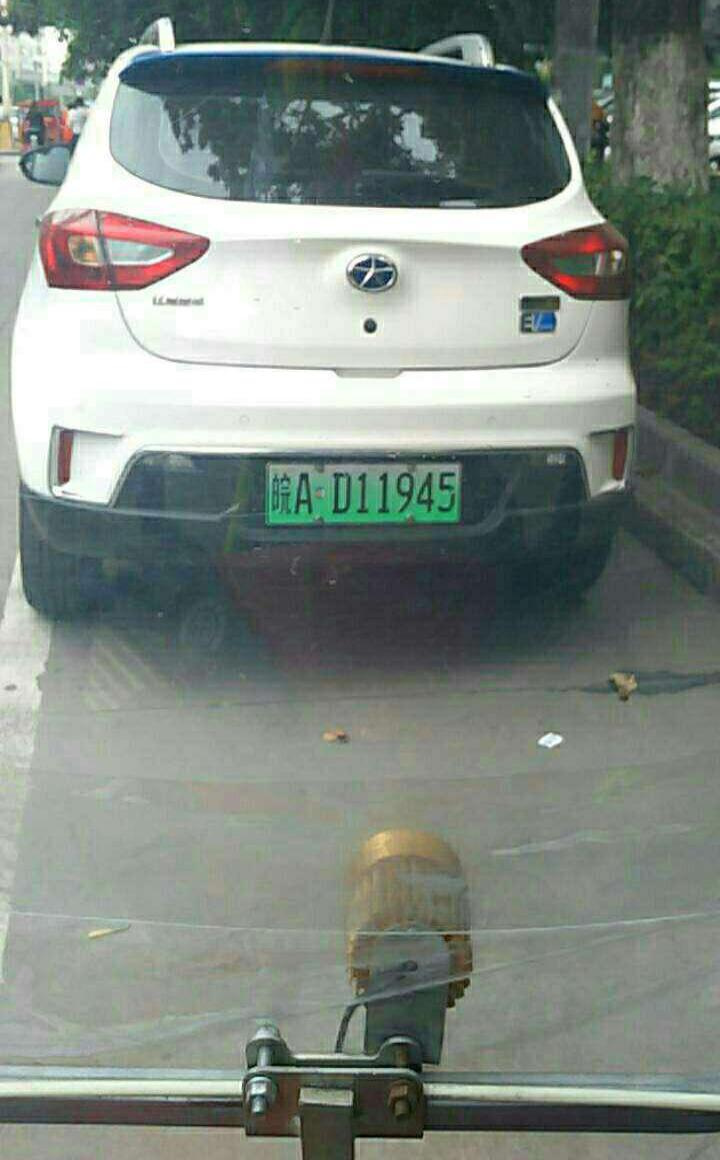car: (253, 451, 465, 527)
